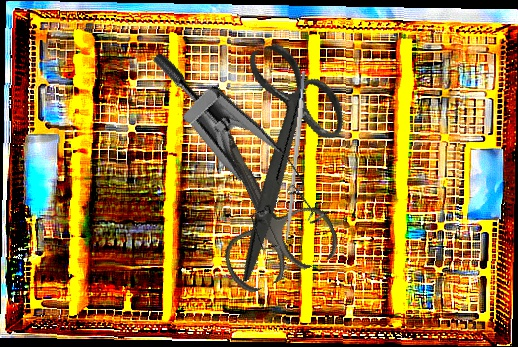Iris Scissors: (170, 30, 386, 283), (157, 66, 345, 299)
Scalpel Handle: (283, 70, 309, 241)
Speculum: (98, 48, 353, 270)
